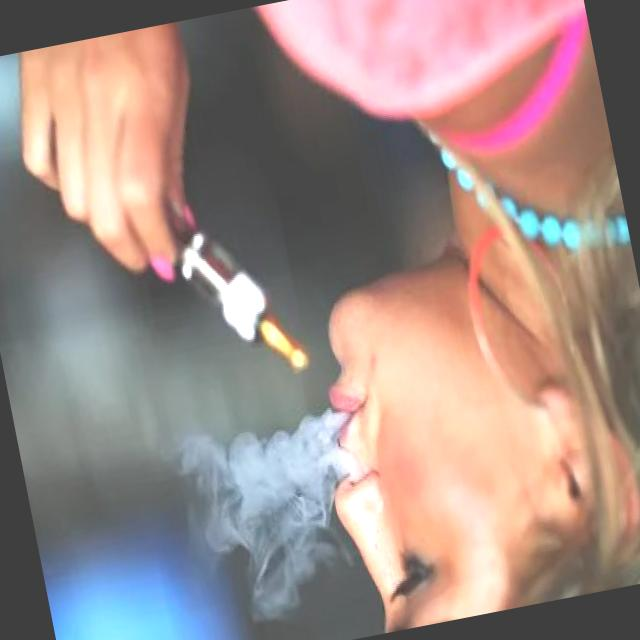smoke: (140, 160, 320, 408)
